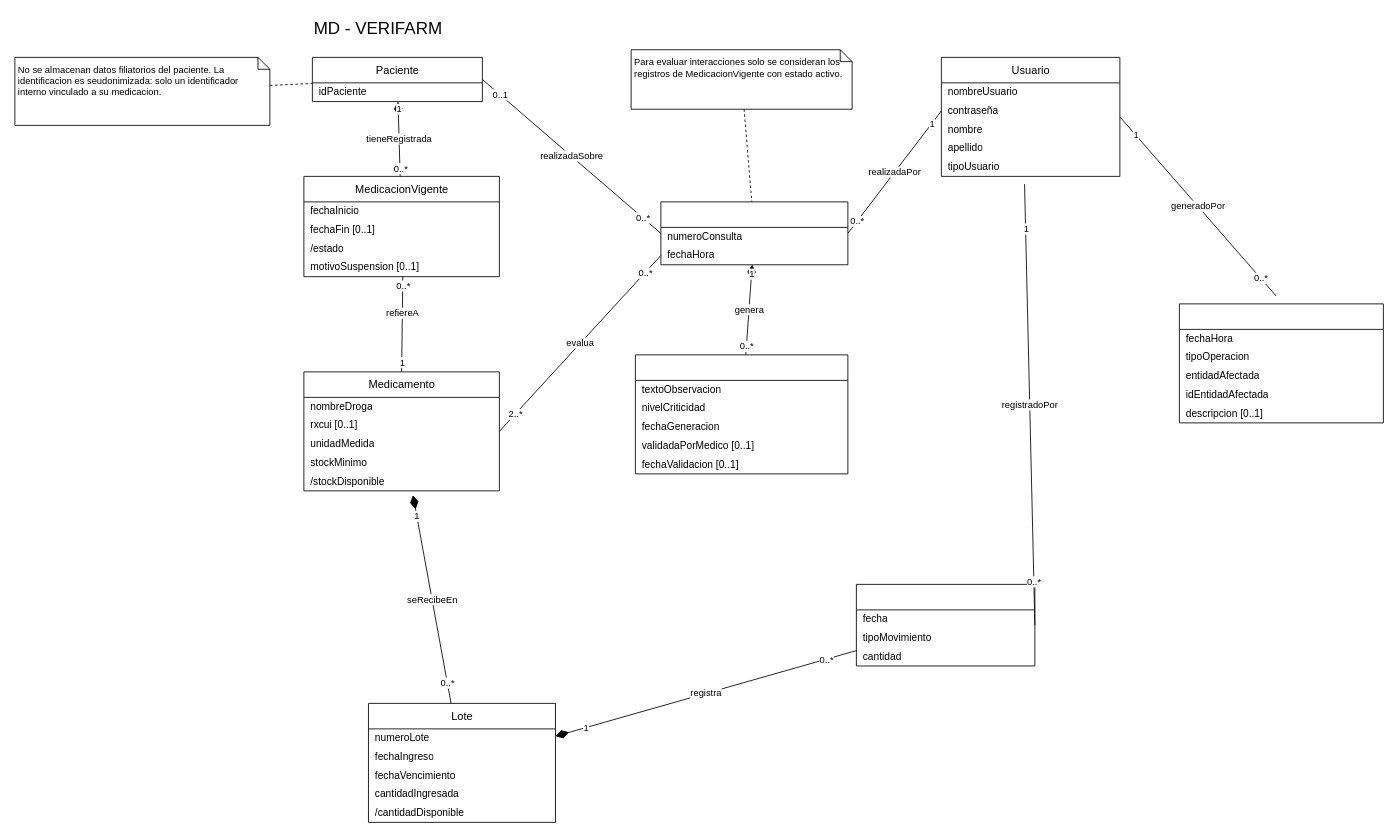
Image size: 1398x837. Some labels were removed from this diagram. Each missing label, with the box of its shape:
ConsultaInteraccion: (660, 201, 848, 265)
MovimientoStock: (856, 584, 1035, 666)
ObservacionInteraccion: (635, 354, 848, 474)
RegistroAuditoria: (1179, 303, 1383, 423)
